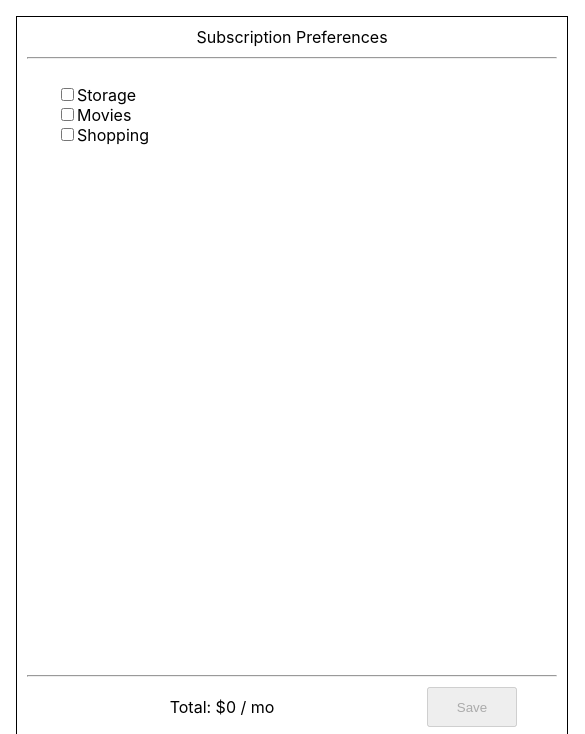
Test: Save Button Enable/Disable › Press Save
This screenshot has width=585, height=734.
Click the checkbox with test id "checkBox" showing "Movies".
click(68, 114)  # box [61,108,74,121]
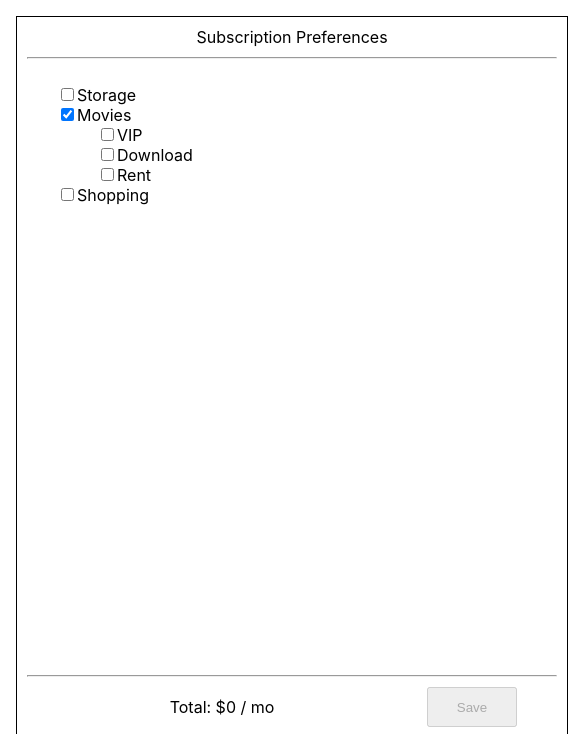
Click the checkbox with test id "checkBox" showing "Download".
click(108, 154)  # box [101,148,114,161]
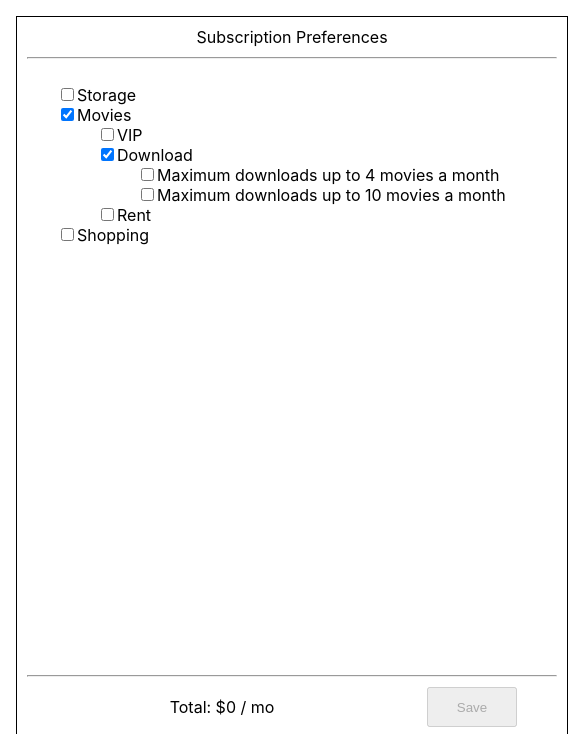
Click the 5th checkbox with test id "checkBox".
click(148, 174)  # box [141,168,154,181]
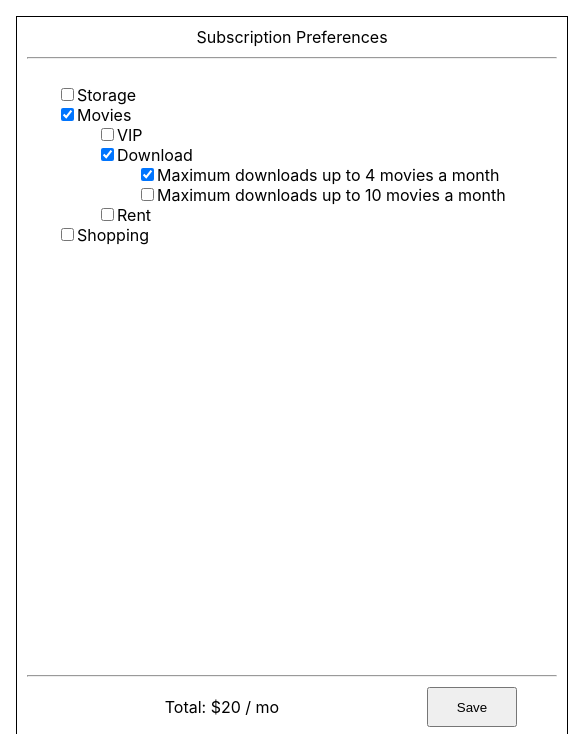
Expected: the button with test id "save_button" is enabled
Click the button with test id "save_button".
click(472, 707)  # box [427,687,517,727]
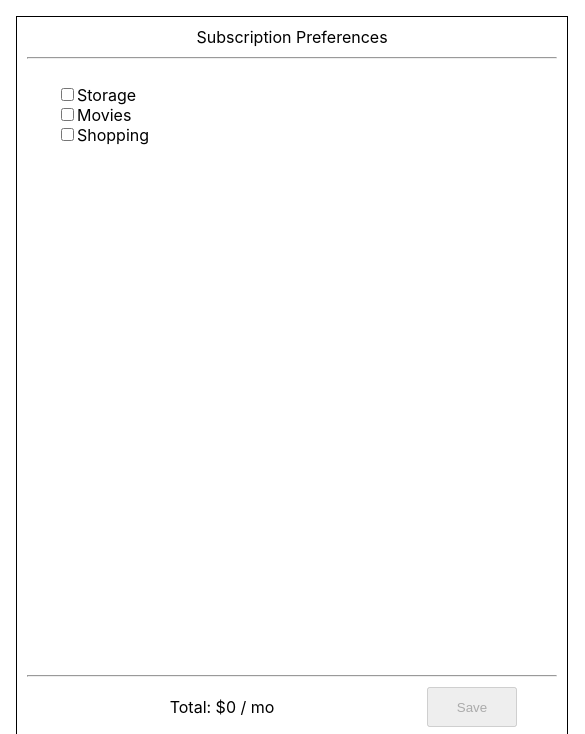
Expected: the button with test id "save_button" is disabled, [427,687,517,727]
